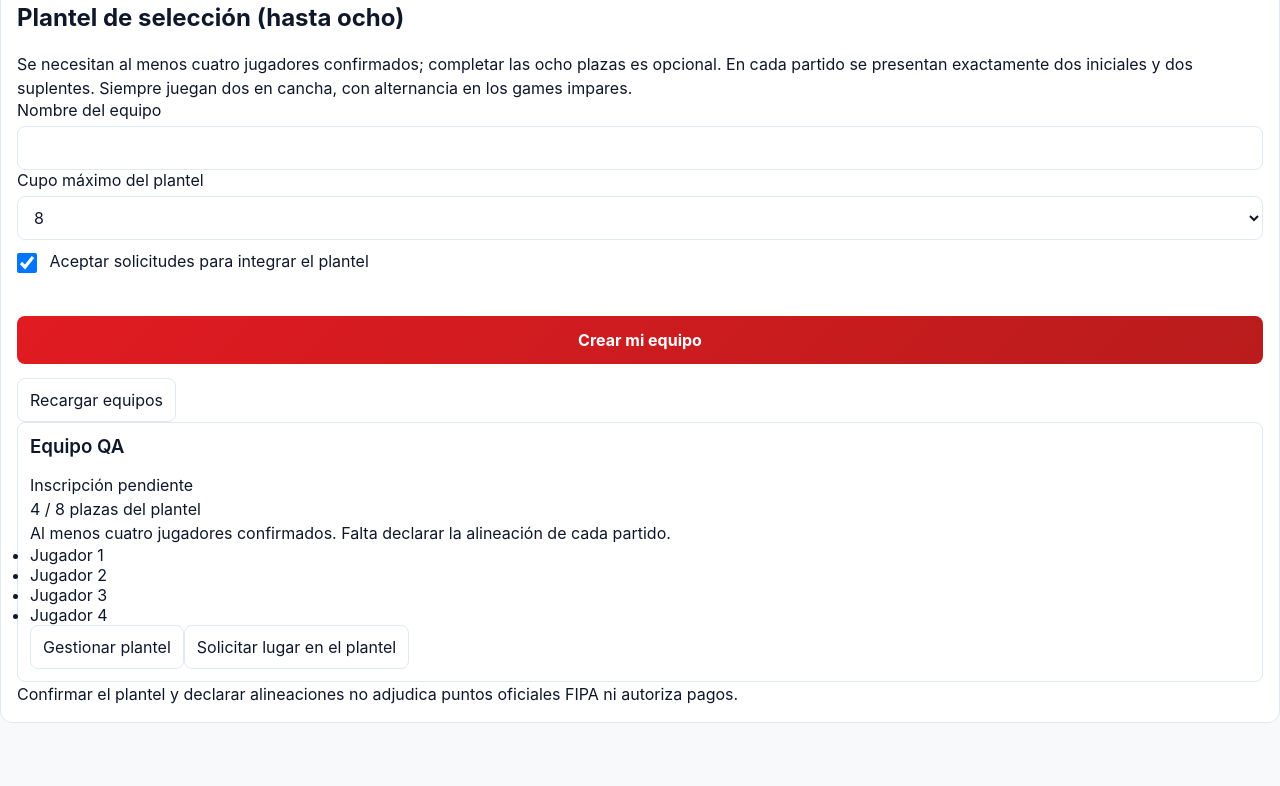
Test case: a visible legacy management permission never turns a private backend403 into editable controls
Step 1. Click the button "Gestionar plantel" → [107, 647], box [30, 625, 184, 669]
(page scrolled)
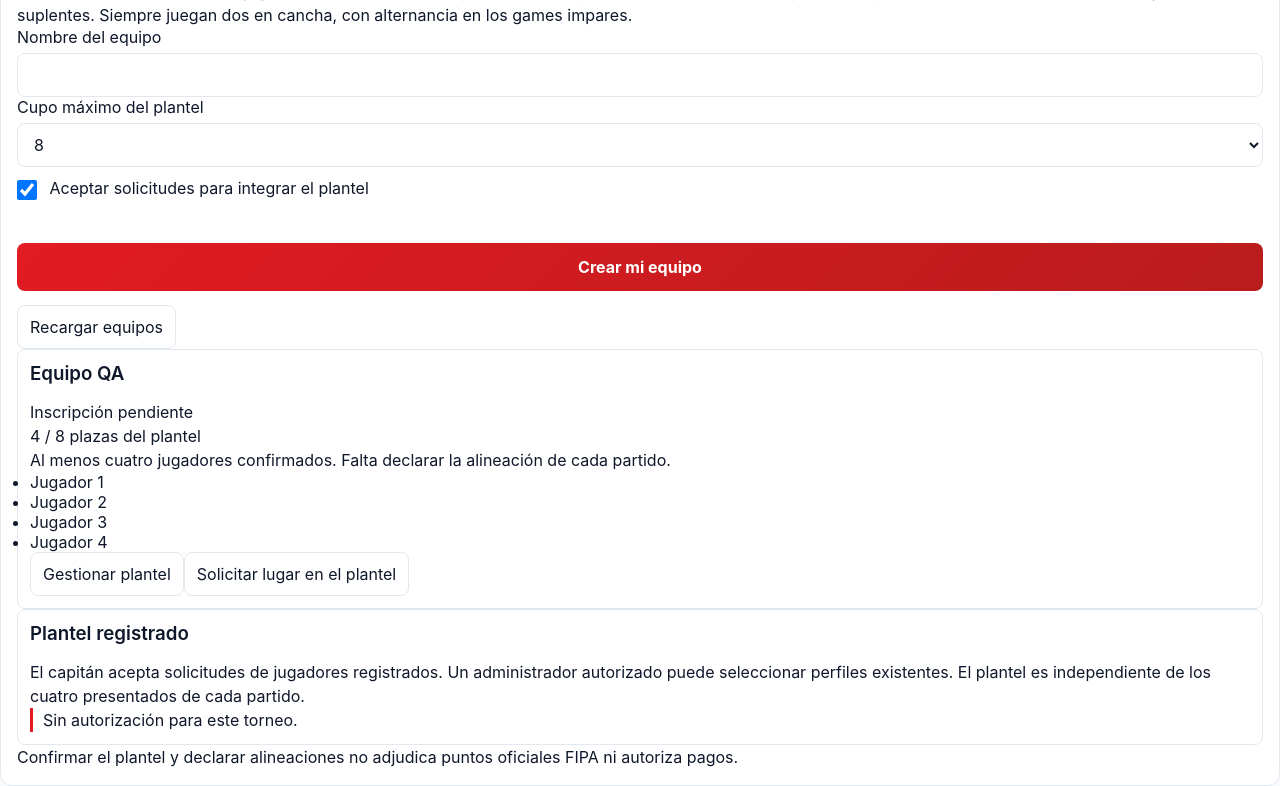
Result: the text "Sin autorización para este torneo." is shown at [30, 708, 1250, 732]
